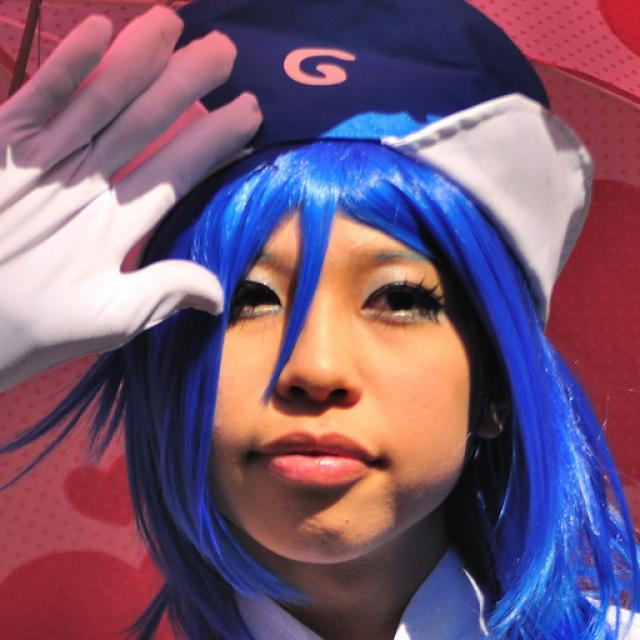neutral: (196, 184, 475, 572)
